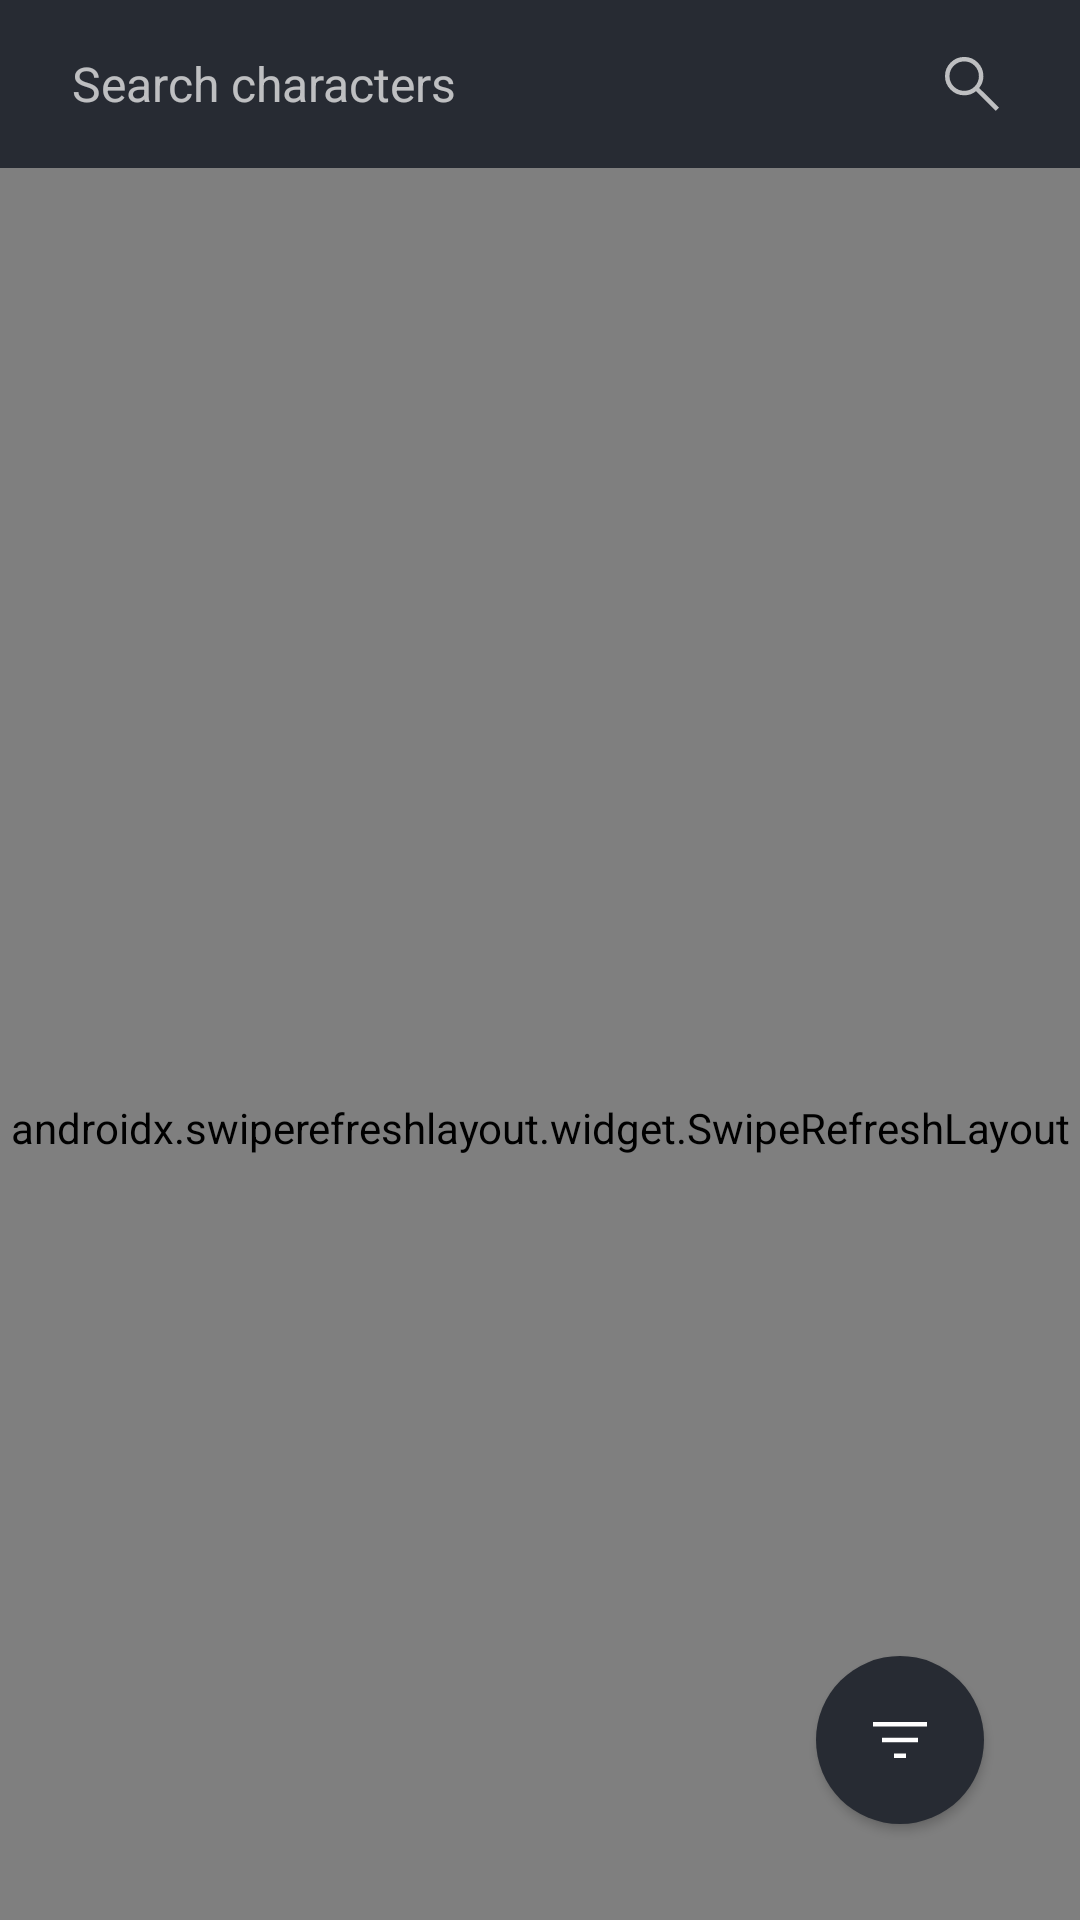

Where icons sit on this 1080x1920 app screen, as {"x1": x1, "y1": y1, "x2": x2, "y2": y2}:
filter: {"x1": 816, "y1": 1656, "x2": 984, "y2": 1824}
